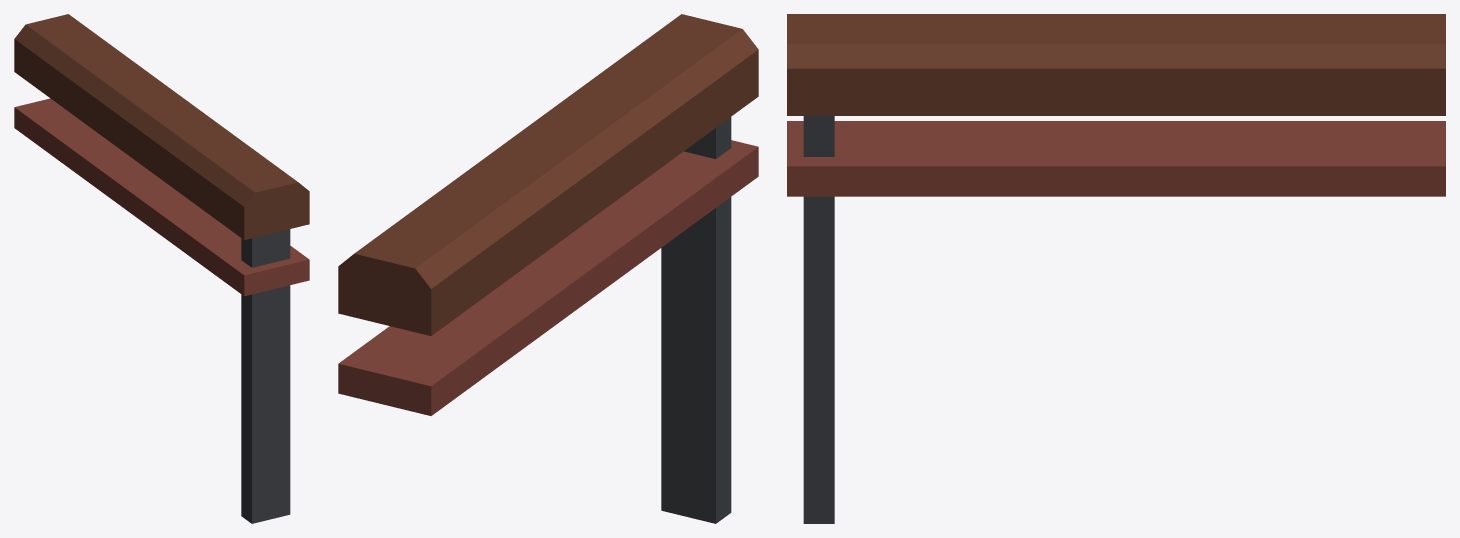
File: SM_GameArea_Fence_01.fbx
The picture shows the model from 3 angles, left to right: view 1: azimuth 30°, elevation 25°; view 2: azimuth 150°, elevation 25°; view 3: azimuth 270°, elevation 25°; orthographic projection. The views are drawn at different scales.
Visible parts, largest first — view 1: SM_GameArea_Fence_01; view 2: SM_GameArea_Fence_01; view 3: SM_GameArea_Fence_01.
Part boxes in pixels (x1,y1,x2,y2): SM_GameArea_Fence_01: (14, 14, 309, 523); SM_GameArea_Fence_01: (338, 14, 758, 523); SM_GameArea_Fence_01: (787, 14, 1445, 523).
Size of the model in its own units: 0.7215 by 3.55 by 4.4.
Materials: 1 (1 with a texture image).
